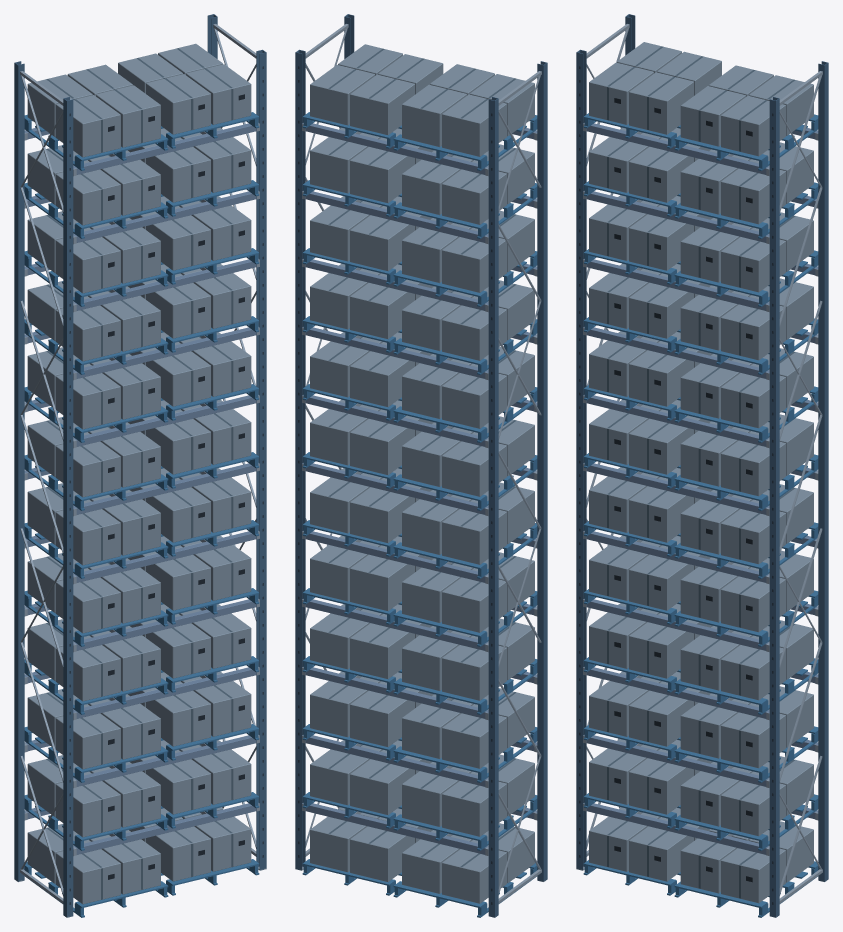
Rendered from SM_GHS_V2Rack_B_W23409.fbx.
3 views of the same model, side by side, from view 1: azimuth 30°, elevation 25°; view 2: azimuth 150°, elevation 25°; view 3: azimuth 330°, elevation 25° (orthographic).
Visible parts, largest first — view 1: SM_GHS_V2Rack_B_W23409; view 2: SM_GHS_V2Rack_B_W23409; view 3: SM_GHS_V2Rack_B_W23409.
Boxes of the visible parts, x1,y1,x2,y2 form: SM_GHS_V2Rack_B_W23409: (14, 14, 266, 917); SM_GHS_V2Rack_B_W23409: (295, 14, 547, 917); SM_GHS_V2Rack_B_W23409: (576, 14, 828, 917).
Size of the model in its own units: 234 by 122 by 915.
